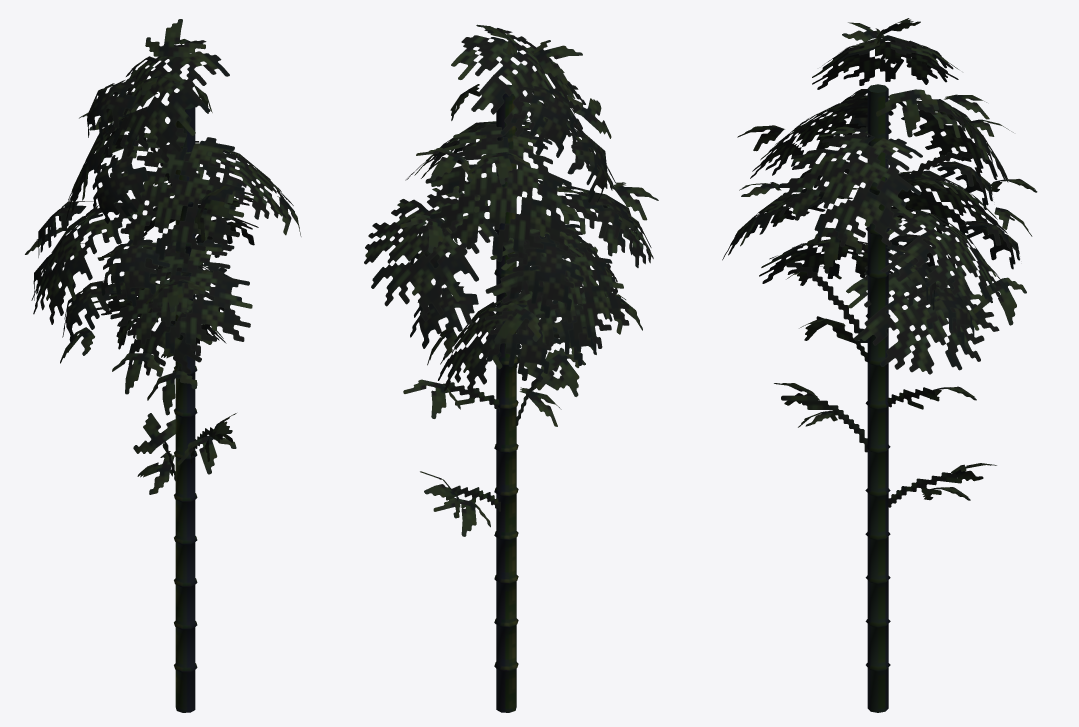
The model's file is EnvFldMD_Tree_H_Bamboo_M.FBX.
3 views of the same model, side by side, from view 1: azimuth 30°, elevation 25°; view 2: azimuth 150°, elevation 25°; view 3: azimuth 270°, elevation 25° (orthographic). The views are drawn at different scales.
Parts seen in each view (by area): view 1: EnvFldMD_Tree_H_Bamboo_M; view 2: EnvFldMD_Tree_H_Bamboo_M; view 3: EnvFldMD_Tree_H_Bamboo_M.
Part boxes in pixels (left/top/right/bottom): EnvFldMD_Tree_H_Bamboo_M: left=25, top=19, right=301, bottom=712; EnvFldMD_Tree_H_Bamboo_M: left=364, top=24, right=658, bottom=712; EnvFldMD_Tree_H_Bamboo_M: left=722, top=18, right=1037, bottom=712.
Size of the model in its own units: 314 by 735 by 344.
Materials: 2 (2 with a texture image).
